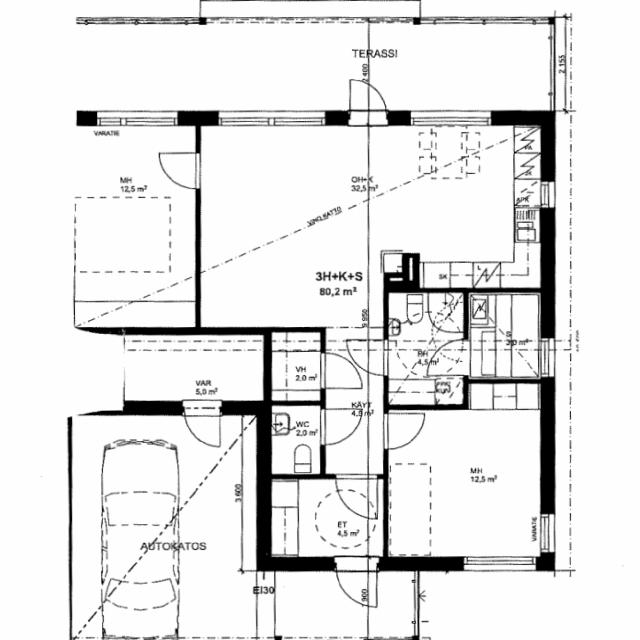door: (333, 556, 377, 614), (348, 72, 388, 126), (182, 399, 220, 451), (336, 474, 377, 520), (344, 340, 388, 377), (425, 339, 469, 376), (158, 152, 200, 189), (319, 409, 362, 444), (382, 413, 423, 448), (321, 353, 361, 388)
